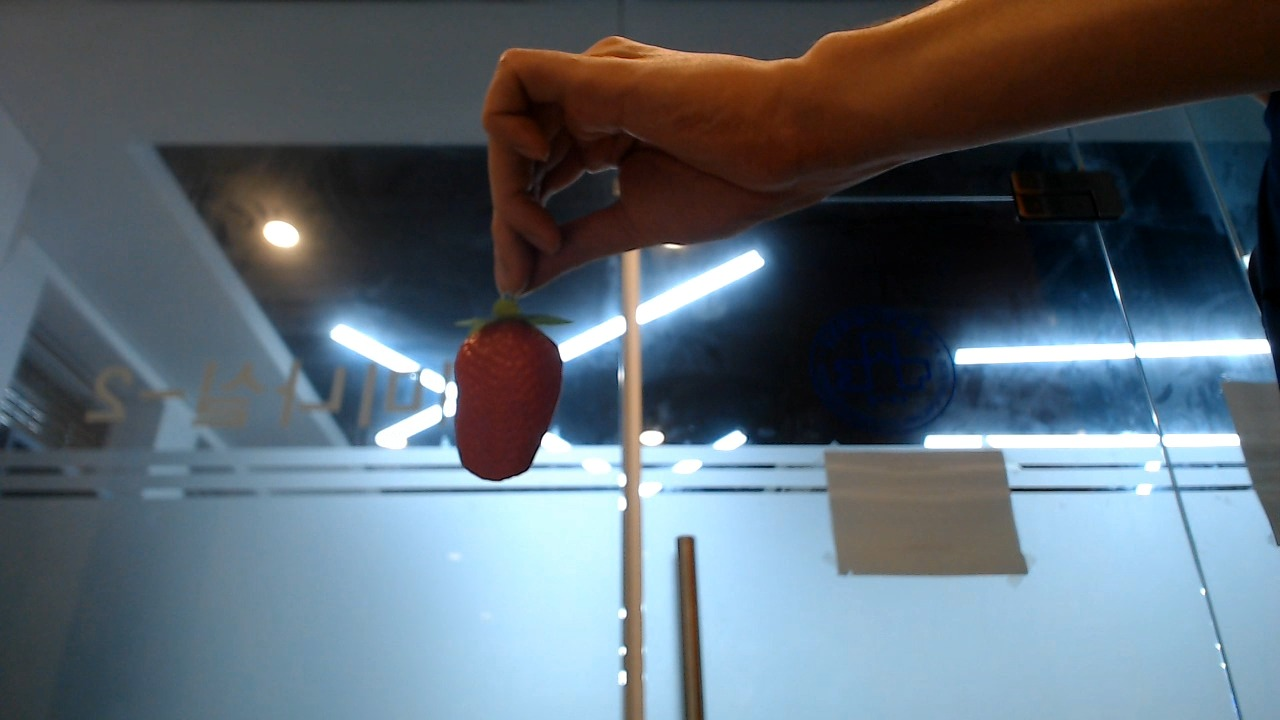strawberry: (444, 300, 575, 485)
